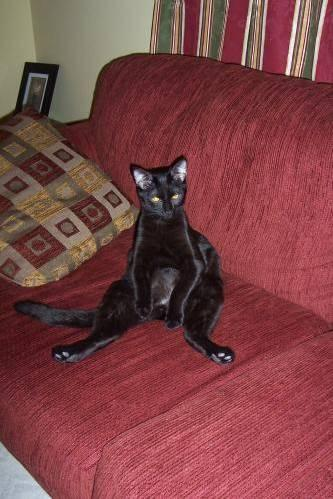cat: (51, 157, 233, 366)
